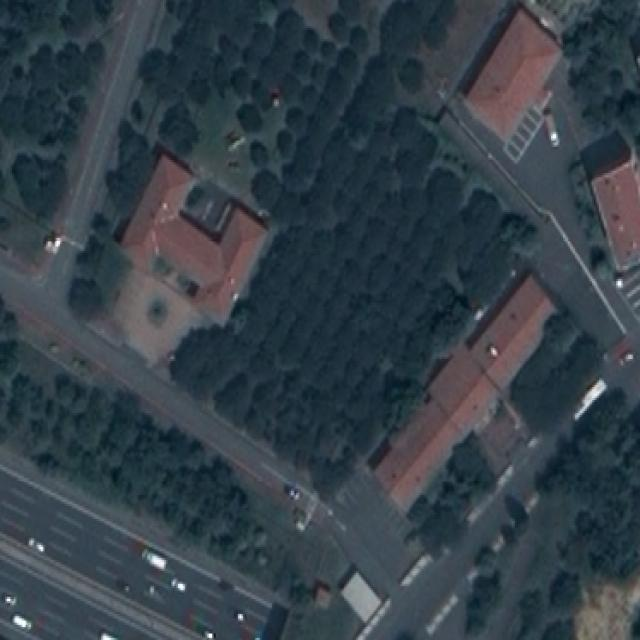Batiment: (375, 275, 555, 511), (121, 152, 266, 323), (465, 8, 560, 162), (591, 158, 640, 271), (476, 400, 530, 476)
